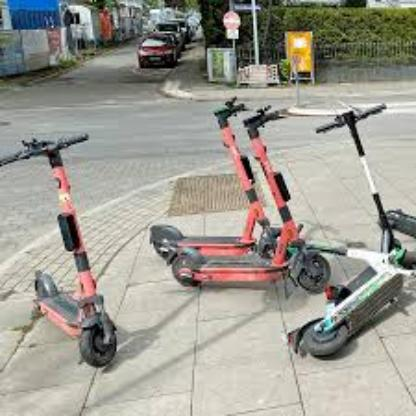bike: (148, 97, 415, 361), (0, 132, 119, 370)
car: (137, 32, 180, 69)
